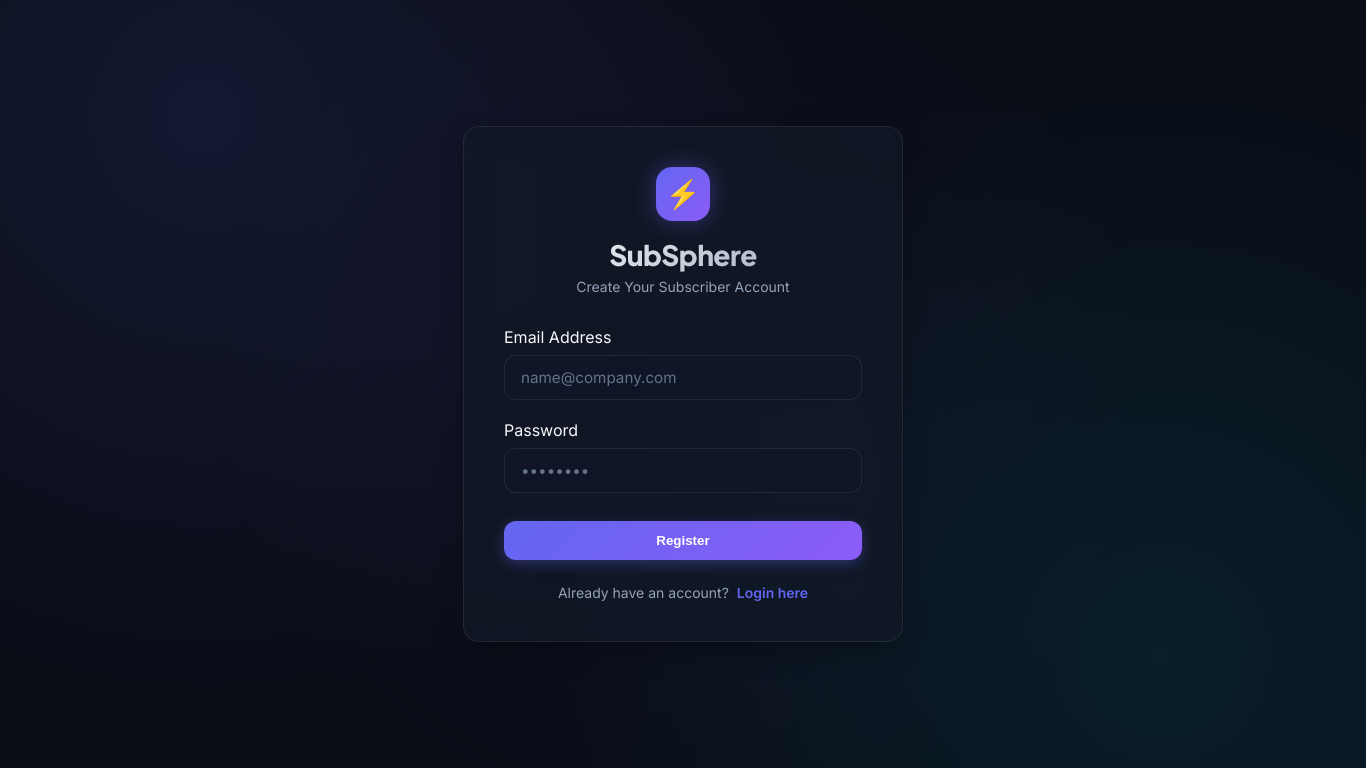
Test: RegisterPage › shows password strength indicator when typing
The width and height of the screenshot is (1366, 768).
Type "Weak1!" into the password field labelled "Password" at (683, 470), box left=504, top=448, right=862, bottom=493
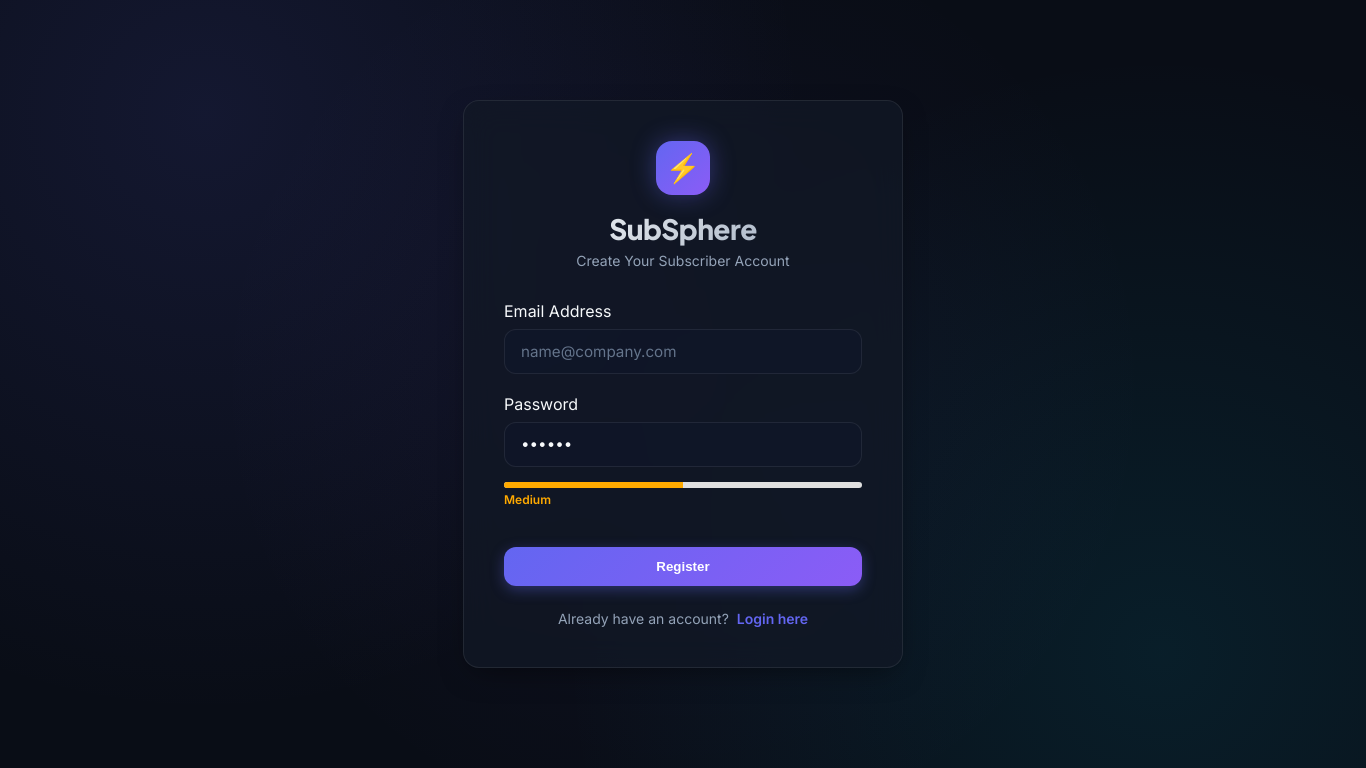
Now the text "Medium" is shown, box left=504, top=492, right=551, bottom=507
